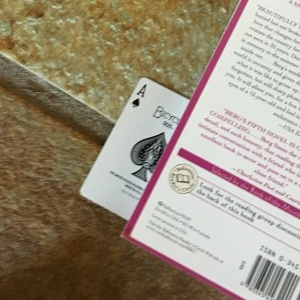card: (78, 77, 192, 223)
